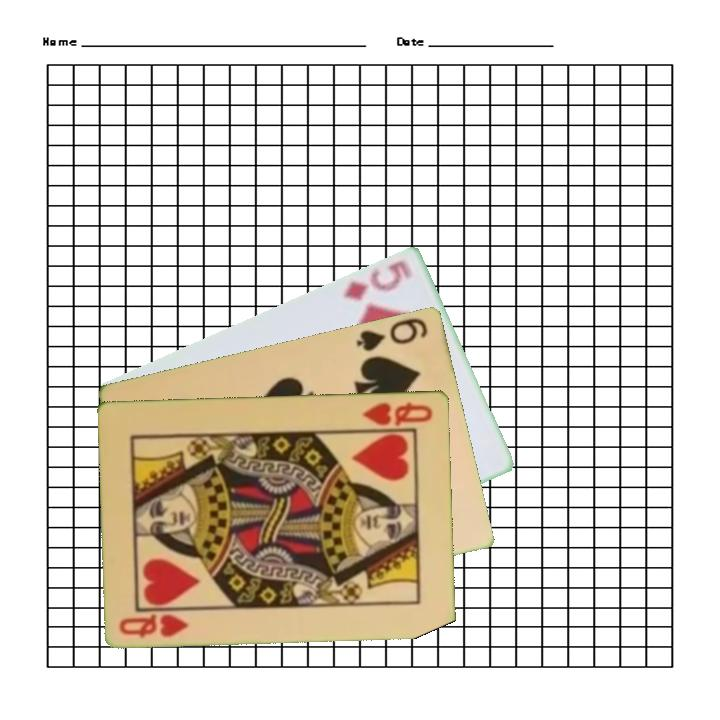5d: (339, 256, 416, 303)
6s: (353, 314, 431, 354)
Qh: (359, 398, 436, 429), (116, 609, 193, 640)
